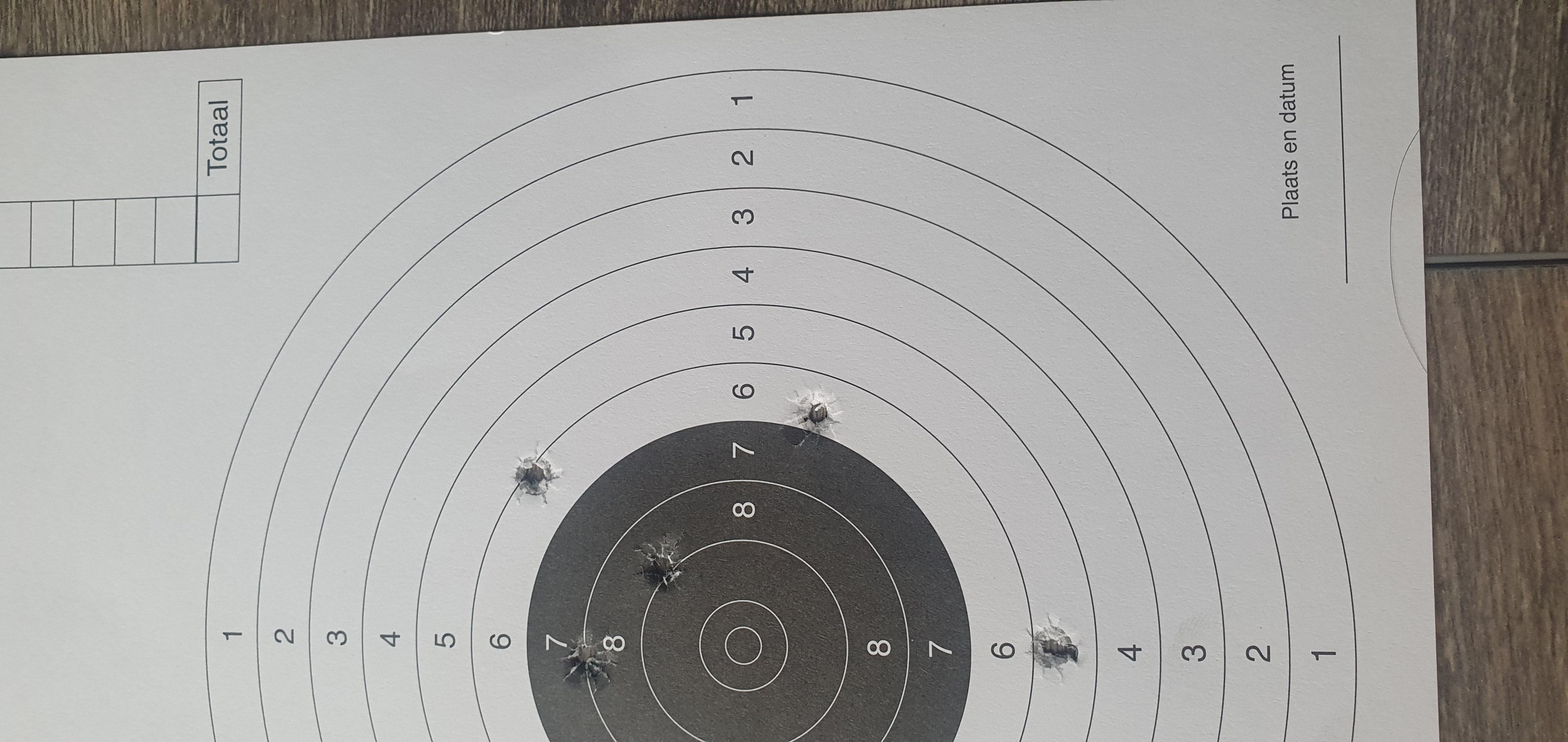hole: (619, 371, 751, 401), (129, 484, 268, 512), (104, 264, 238, 293), (499, 241, 633, 267), (315, 298, 438, 325)
